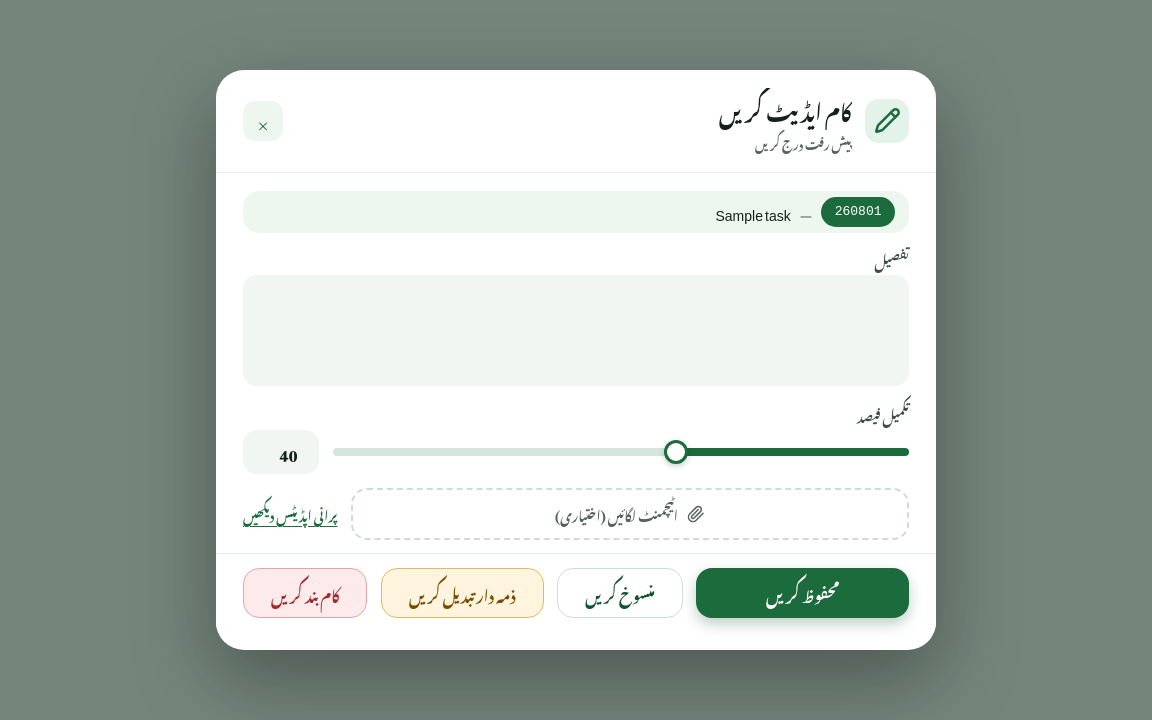
Test: UpdateModal (docs/08-ui-ux.md §7, docs/09-frontend-features.md §3) › Change Assignee footer button › "ہاں" reveals a dropdown sourced from the same assignable-users data as the Naya Kaam form
This screenshot has width=1152, height=720.
Expected: the text "Sample task" is shown, [716,194,791,229]
Click the button "ذمہ دار تبدیل کریں" at (462, 593), box [381,568,544,618]
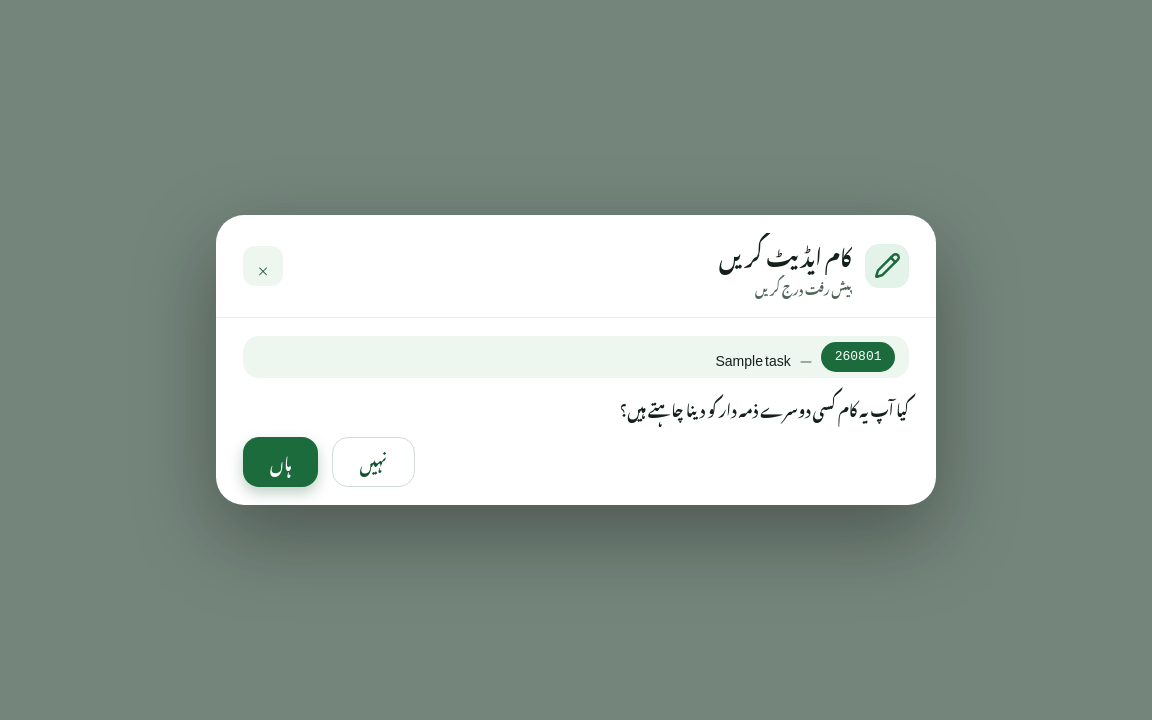
Click the button "ہاں" at (281, 462), box [243,437,318,487]
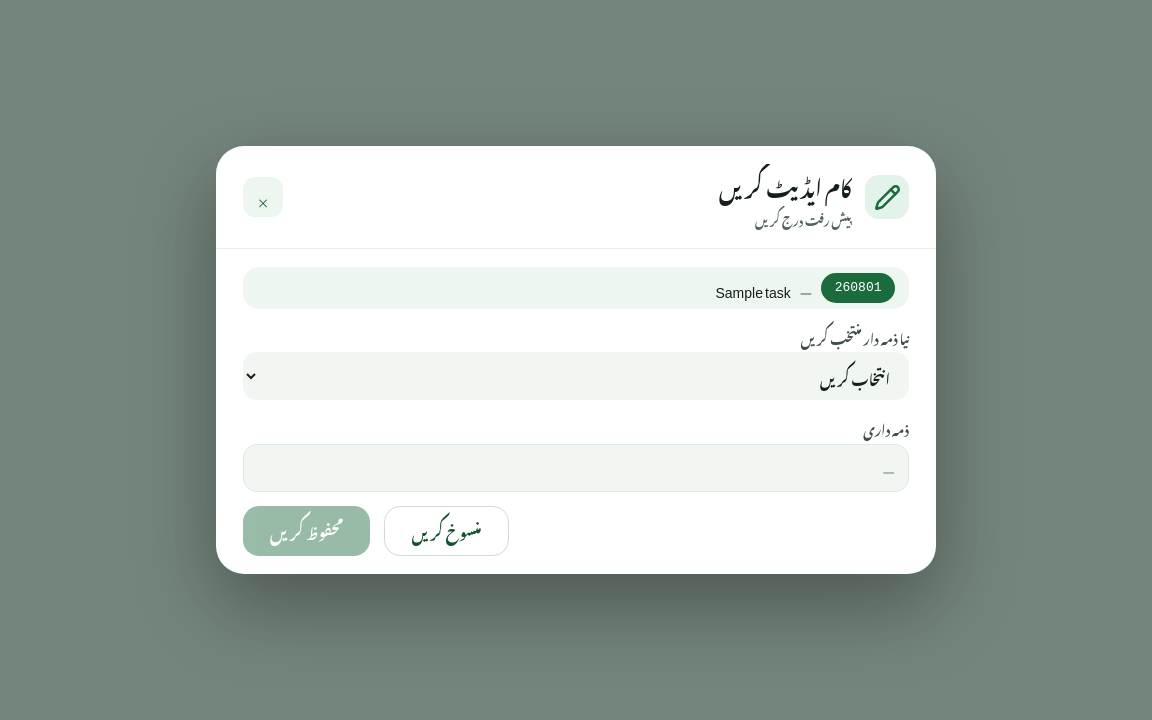
Now the dropdown labelled "نیا ذمہ دار منتخب کریں" is shown, box [243,352,909,400]
